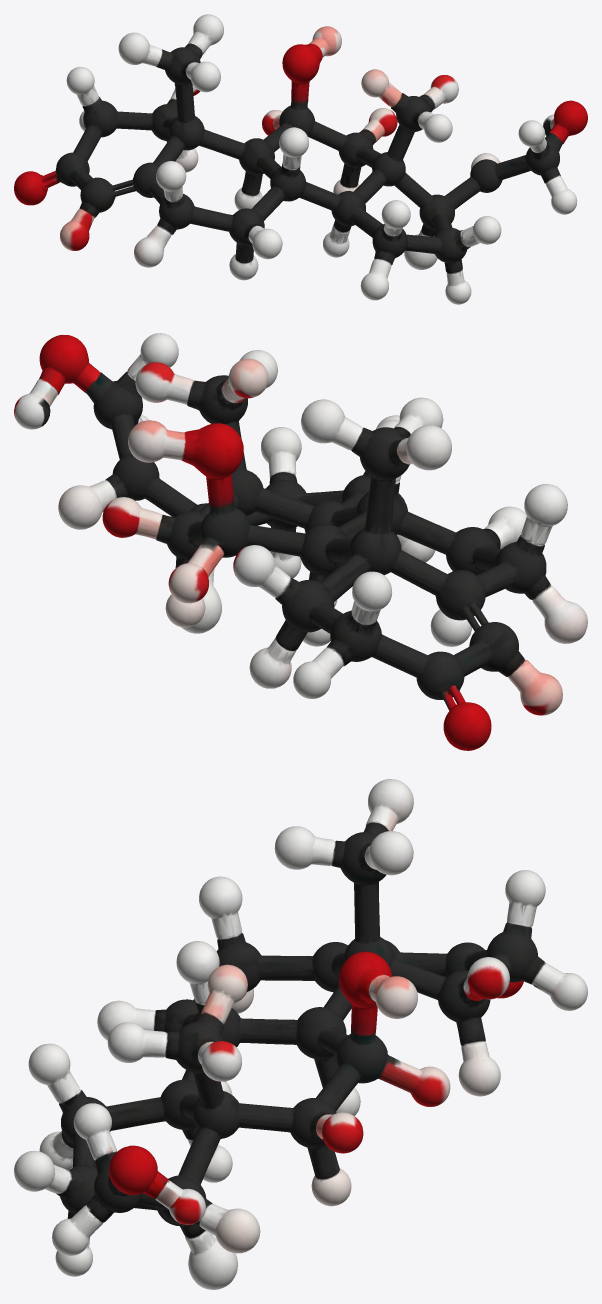
Rendered from cortisol.glb.
3 renders of one model, top to bottom at view 1: azimuth 30°, elevation 25°; view 2: azimuth 150°, elevation 25°; view 3: azimuth 270°, elevation 25°, orthographic. The views are drawn at different scales.
Parts seen in each view (by area): view 1: tripo_node_7c7ebbce-587f-4b3a-ba03-dcdef7c2aa86; view 2: tripo_node_7c7ebbce-587f-4b3a-ba03-dcdef7c2aa86; view 3: tripo_node_7c7ebbce-587f-4b3a-ba03-dcdef7c2aa86.
Boxes of the visible parts, bbox=[...] form: tripo_node_7c7ebbce-587f-4b3a-ba03-dcdef7c2aa86: bbox=[14, 14, 587, 304]; tripo_node_7c7ebbce-587f-4b3a-ba03-dcdef7c2aa86: bbox=[14, 333, 587, 750]; tripo_node_7c7ebbce-587f-4b3a-ba03-dcdef7c2aa86: bbox=[14, 779, 587, 1289].
Bounding box in the file's own units: 0.9791 × 0.5139 × 0.7654.
1 material, 1 textured.
